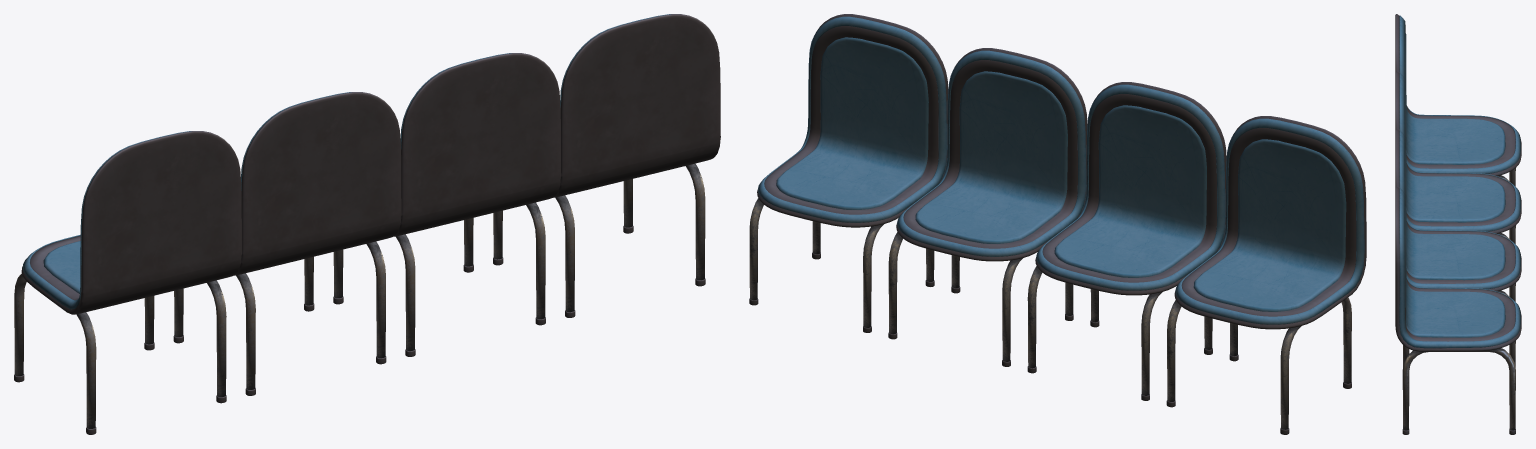
File: sillas_espera_4.glb
3 renders of one model, left to right at view 1: azimuth 30°, elevation 25°; view 2: azimuth 150°, elevation 25°; view 3: azimuth 270°, elevation 25°, orthographic. The views are drawn at different scales.
Parts seen in each view (by area): view 1: sillauv; view 2: sillauv; view 3: sillauv.
Boxes of the visible parts, x1,y1,x2,y2 form: sillauv: (14,14,720,434); sillauv: (749,14,1366,434); sillauv: (1395,14,1521,434).
Size of the model in its own units: 2.56 by 1.09 by 0.5932.
4 materials, 4 textured.
